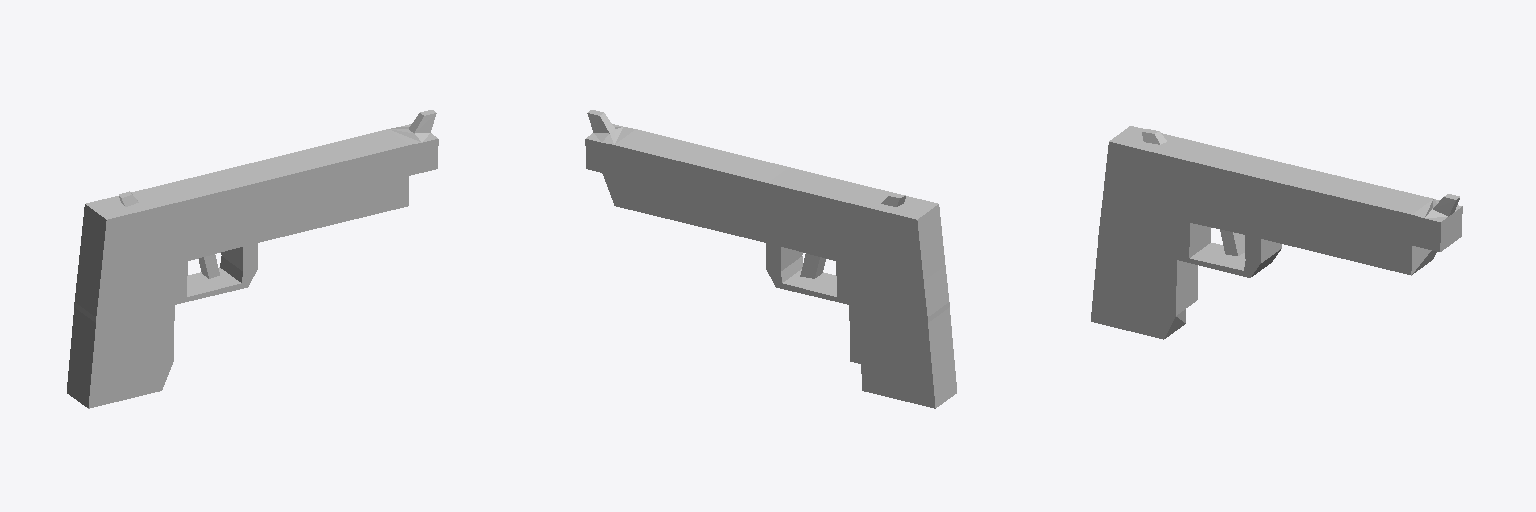
Rendered from gun1.obj.
The picture shows the model from 3 angles: view 1: azimuth 30°, elevation 25°; view 2: azimuth 150°, elevation 25°; view 3: azimuth 330°, elevation 25°; orthographic projection.
Visible parts, largest first — view 1: Cube_Cube.001; view 2: Cube_Cube.001; view 3: Cube_Cube.001.
Boxes of the visible parts, x1=… form: Cube_Cube.001: x1=67, y1=110, x2=438, y2=408; Cube_Cube.001: x1=585, y1=110, x2=956, y2=408; Cube_Cube.001: x1=1091, y1=126, x2=1462, y2=339.
Bounding box in the file's own units: 0.3451 × 0.1871 × 0.0366.